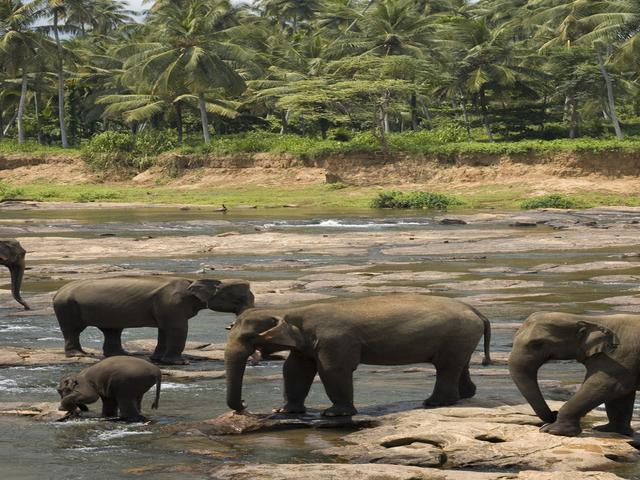elephant: (209, 283, 502, 416)
